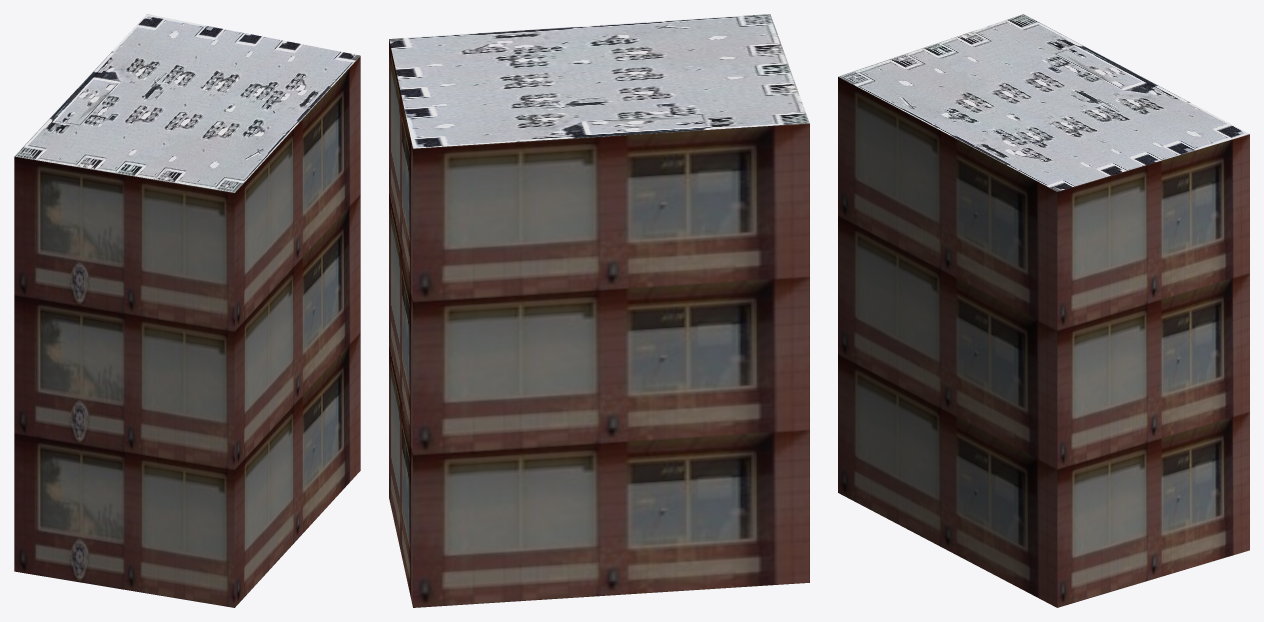
File: ResTex__4807.fbx
3 renders of one model, left to right at view 1: azimuth 30°, elevation 25°; view 2: azimuth 150°, elevation 25°; view 3: azimuth 270°, elevation 25°, orthographic. The views are drawn at different scales.
Parts seen in each view (by area): view 1: CityEngineMaterial_13_m, CityEngineMaterial_8_m; view 2: CityEngineMaterial_13_m, CityEngineMaterial_8_m; view 3: CityEngineMaterial_13_m, CityEngineMaterial_8_m.
Part boxes in pixels (x1=…): CityEngineMaterial_13_m: x1=14, y1=56, x2=360, y2=607; CityEngineMaterial_8_m: x1=14, y1=14, x2=360, y2=192; CityEngineMaterial_13_m: x1=389, y1=39, x2=809, y2=607; CityEngineMaterial_8_m: x1=389, y1=14, x2=809, y2=148; CityEngineMaterial_13_m: x1=838, y1=77, x2=1249, y2=607; CityEngineMaterial_8_m: x1=838, y1=14, x2=1249, y2=191.
Bounding box in the file's own units: 8.25 × 9 × 8.07.
2 materials, 2 textured.
